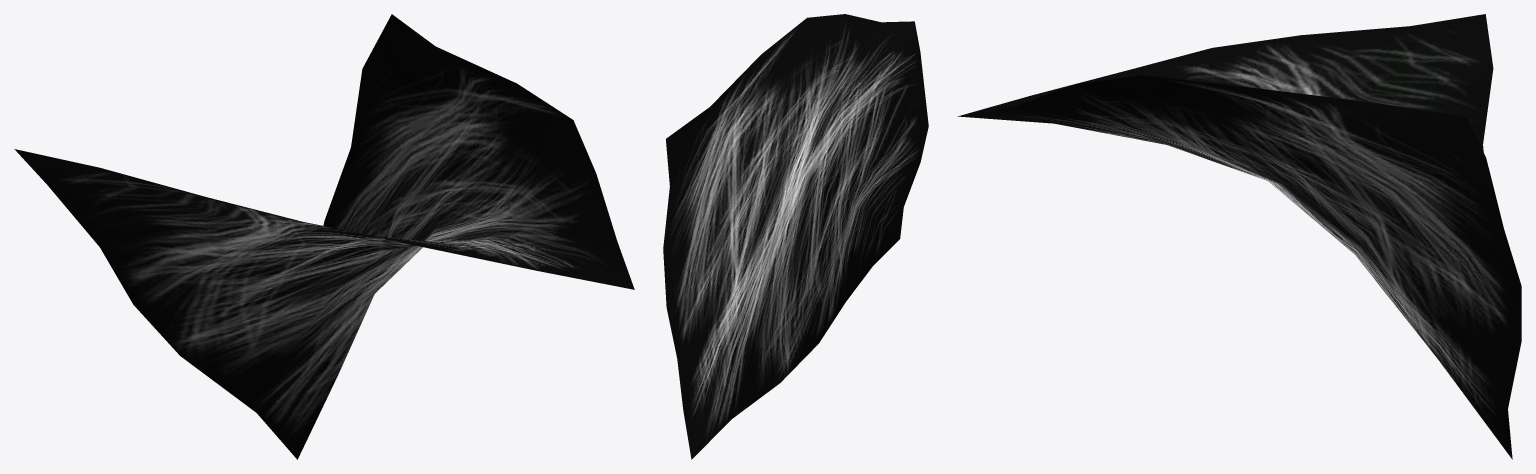
Rendered from SWORDLIGHT20_PS-AREA01_CORNERWEB13.fbx.
3 views of the same model, side by side, from view 1: azimuth 30°, elevation 25°; view 2: azimuth 150°, elevation 25°; view 3: azimuth 270°, elevation 25° (orthographic). The views are drawn at different scales.
Parts seen in each view (by area): view 1: SWORDLIGHT20_PS-AREA01_CORNERWEB13; view 2: SWORDLIGHT20_PS-AREA01_CORNERWEB13; view 3: SWORDLIGHT20_PS-AREA01_CORNERWEB13.
Part boxes in pixels (x1,y1,x2,y2): SWORDLIGHT20_PS-AREA01_CORNERWEB13: [14, 14, 634, 459]; SWORDLIGHT20_PS-AREA01_CORNERWEB13: [663, 14, 928, 459]; SWORDLIGHT20_PS-AREA01_CORNERWEB13: [957, 14, 1521, 459].
Size of the model in its own units: 42753 by 54931 by 69393.
Materials: 1 (1 with a texture image).
